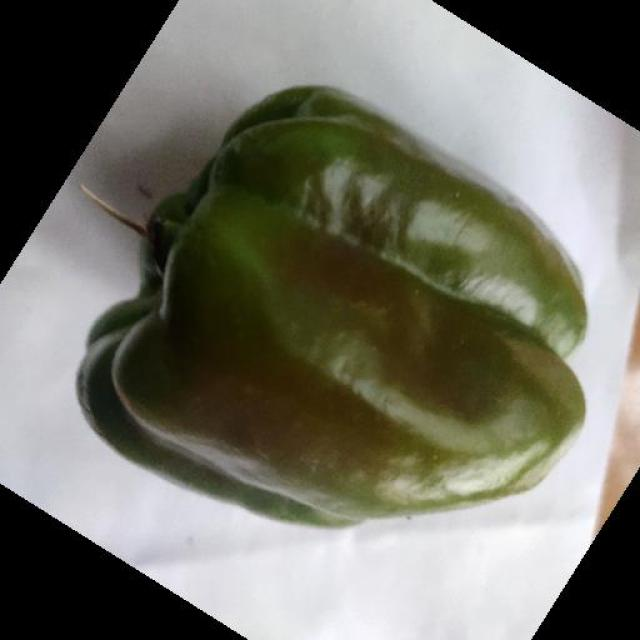Stale_Capsicum: (73, 82, 577, 548)
